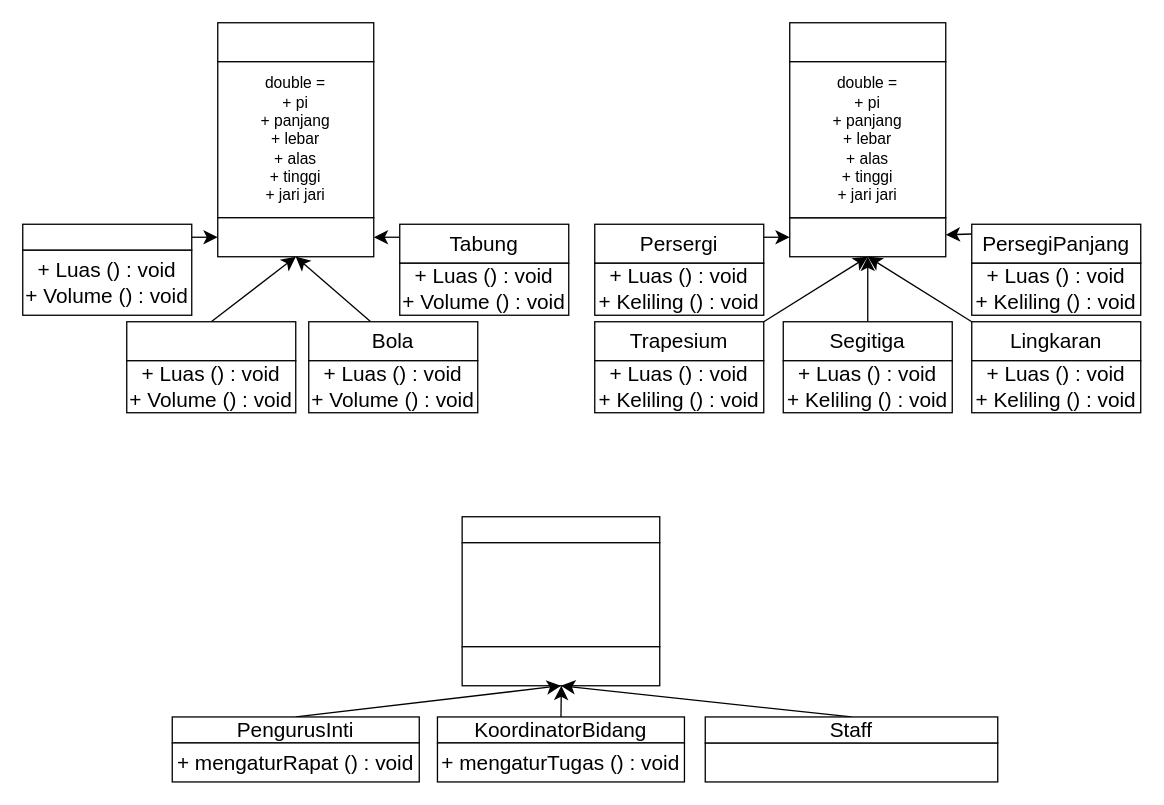
This 1164x805 diagram has some shape labels left out. The shapes that lost their labels are listed below. From the top down, each one's centre as x and y in pixels, then its label:
the point at 295,41: Bangun Ruang
the point at 867,41: Bangun Datar
the point at 106,236: Balok
the point at 295,236: + Luas() : void + Volume() : void
the point at 867,236: + Luas() : void + Keliling() : void
the point at 210,340: Kubus
the point at 560,529: SistemInformasi
the point at 560,594: + String = nama + int = umur + String = jabatan
the point at 560,665: + berbicara () : void
the point at 851,762: + melaksanakanTugas () : void
